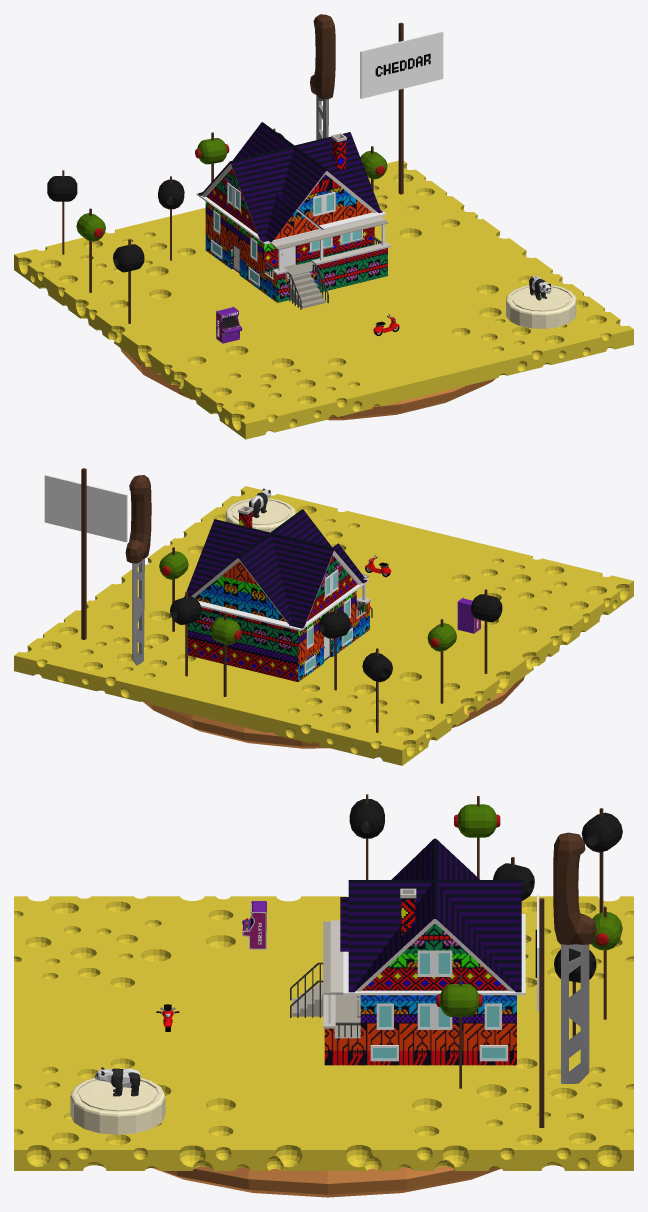
3 views of the same model, one above another, from view 1: azimuth 30°, elevation 25°; view 2: azimuth 150°, elevation 25°; view 3: azimuth 270°, elevation 25° (orthographic). The views are drawn at different scales.
Parts seen in each view (by area): view 1: Cube.022, Cube.966, Cube.023, Cylinder.016, Cube.024, UNDERGROUND_PIZZA, Sphere.017, Sphere.016, Sphere.018, OBJRANDOM_ARCADE, Sphere.022, Sphere.020 (+1 smaller); view 2: Cube.022, Cube.966, Cube.023, Cube.024, UNDERGROUND_PIZZA, Cylinder.016, Sphere.017, Sphere.022, Sphere.020, Sphere.021, Sphere.018, Sphere.016 (+2 smaller); view 3: Cube.022, Cube.966, Cube.024, UNDERGROUND_PIZZA, Cylinder.016, Cube.023, Sphere.016, Sphere.019, Sphere.018, Sphere.017, Sphere.022, OBJRANDOM_ARCADE (+3 smaller).
Part boxes in pixels (x1,y1,x2,y2): Cube.022: (14,160,633,439); Cube.966: (196,122,390,309); Cube.023: (360,22,443,194); Cylinder.016: (506,285,576,328); Cube.024: (310,14,335,139); UNDERGROUND_PIZZA: (120,348,495,420); Sphere.017: (113,239,144,323); Sphere.016: (47,170,77,254); Sphere.018: (76,208,105,292); OBJRANDOM_ARCADE: (216,307,242,343); Sphere.022: (195,132,229,181); Sphere.020: (158,176,184,260); Cube.022: (14,486,633,765); Cube.966: (183,505,372,681); Cube.023: (44,468,127,639); Cube.024: (125,475,151,665); UNDERGROUND_PIZZA: (143,676,524,748); Cylinder.016: (225,498,295,532); Sphere.017: (471,589,502,673); Sphere.022: (210,612,241,696); Sphere.020: (319,606,350,690); Sphere.021: (170,592,201,676); Sphere.018: (427,619,456,703); Sphere.016: (362,648,392,732); Cube.022: (14,896,633,1170); Cube.966: (290,838,525,1065); Cube.024: (553,832,596,1083); UNDERGROUND_PIZZA: (152,1166,500,1197); Cylinder.016: (70,1078,165,1134); Cube.023: (535,894,544,1127); Sphere.016: (581,808,622,912); Sphere.019: (436,975,482,1088); Sphere.018: (454,796,500,878); Sphere.017: (349,794,384,879); Sphere.022: (591,906,622,1019); OBJRANDOM_ARCADE: (242,901,266,949).
Bounding box in the file's own units: 3917 × 2219 × 4000.
47 materials, 7 textured.
